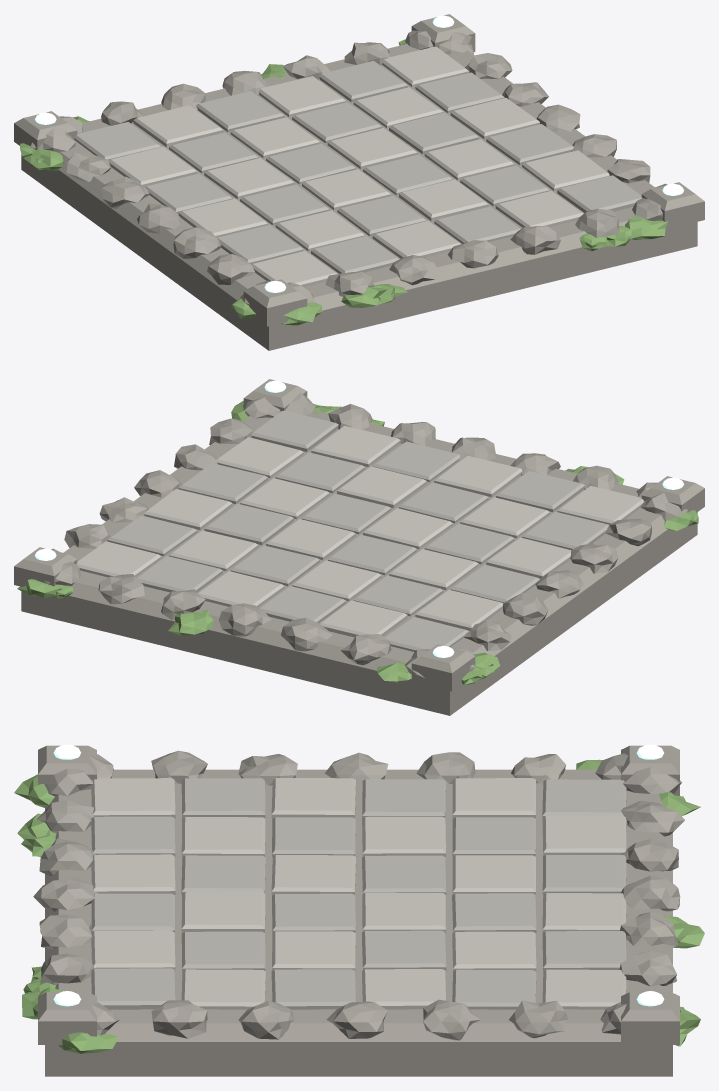
The model's file is platform.glb.
3 views of the same model, one above another, from view 1: azimuth 30°, elevation 25°; view 2: azimuth 150°, elevation 25°; view 3: azimuth 270°, elevation 25° (orthographic). The views are drawn at different scales.
Bounding box in the file's own units: 0.3934 × 0.047 × 0.3982.
